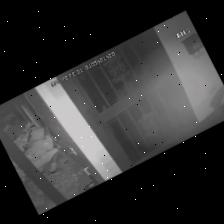person: (24, 127, 61, 173)
